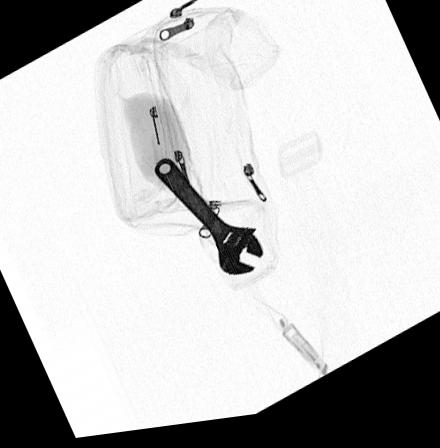Wrench: (153, 162, 262, 280)
